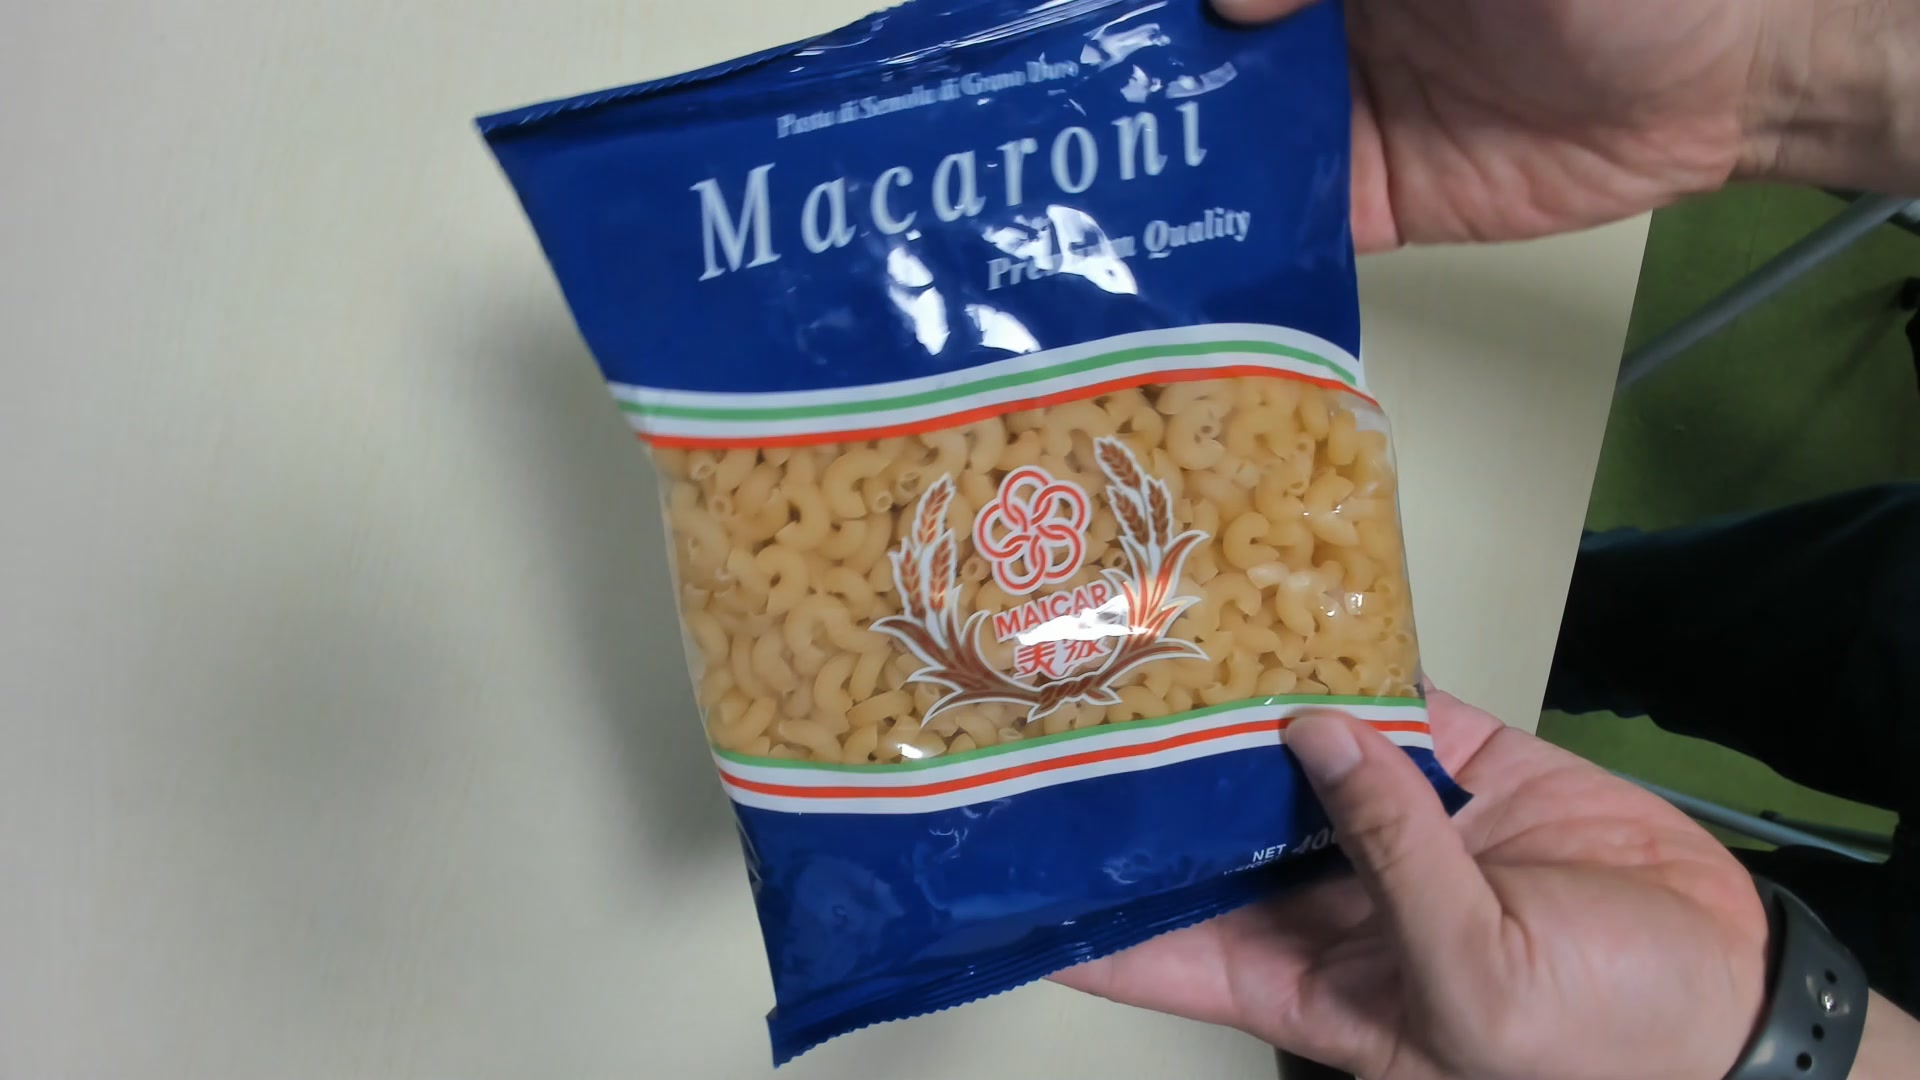Pasta_400-499g_Halal_NonHealthy: (467, 5, 1470, 1080)
